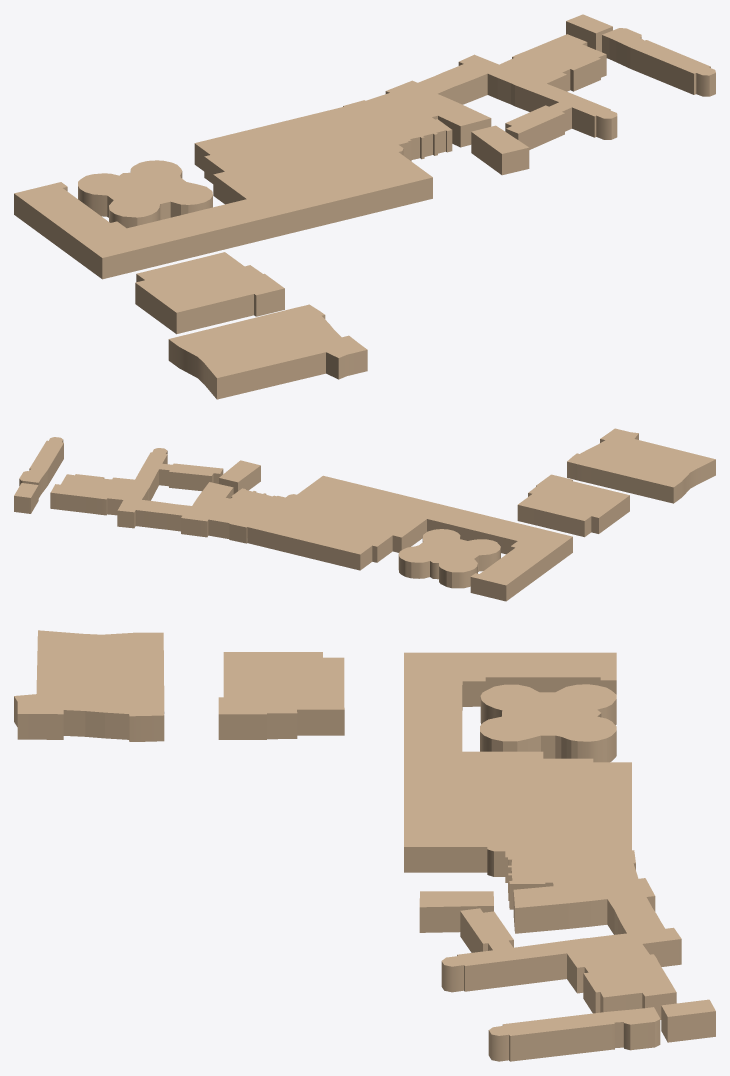
Rendered from B&W3rdFloor.obj.
The picture shows the model from 3 angles, top to bottom: view 1: azimuth 30°, elevation 25°; view 2: azimuth 150°, elevation 25°; view 3: azimuth 270°, elevation 25°; orthographic projection. The views are drawn at different scales.
Parts seen in each view (by area): view 1: floor3; view 2: floor3; view 3: floor3.
Part boxes in pixels (x1=…): floor3: x1=14, y1=14, x2=715, y2=399; floor3: x1=14, y1=428, x2=715, y2=601; floor3: x1=14, y1=630, x2=715, y2=1061.
Bounding box in the file's own units: 39.02 × 1.16 × 28.55.
